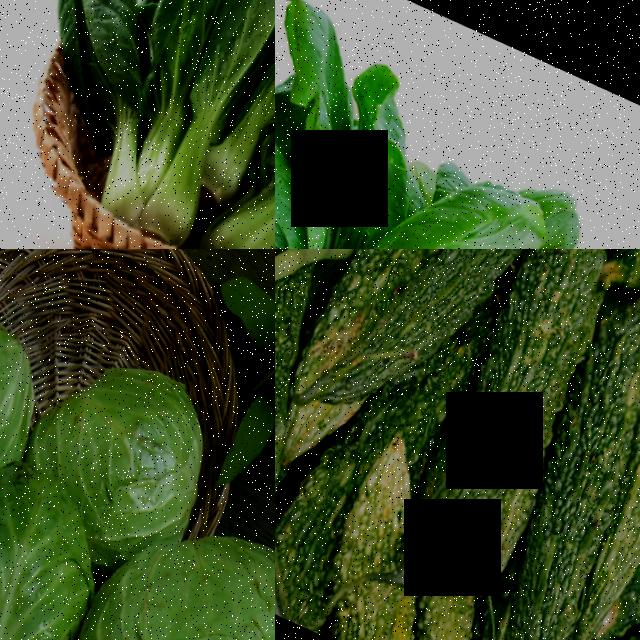bitter gourd: (403, 249, 640, 604), (470, 336, 640, 640), (332, 455, 427, 593), (449, 249, 573, 302), (384, 276, 449, 372), (275, 291, 310, 427)
bok choy: (89, 0, 275, 249), (275, 161, 493, 249), (198, 0, 275, 206)
cabbage: (38, 334, 249, 546), (49, 528, 275, 640), (0, 454, 113, 640)
